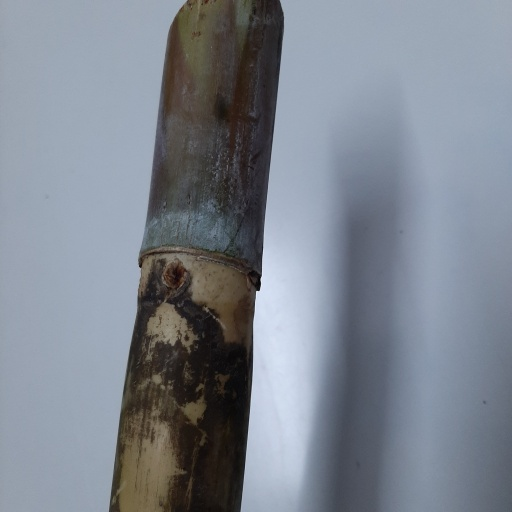Damage_Bud: (163, 259, 184, 290)
